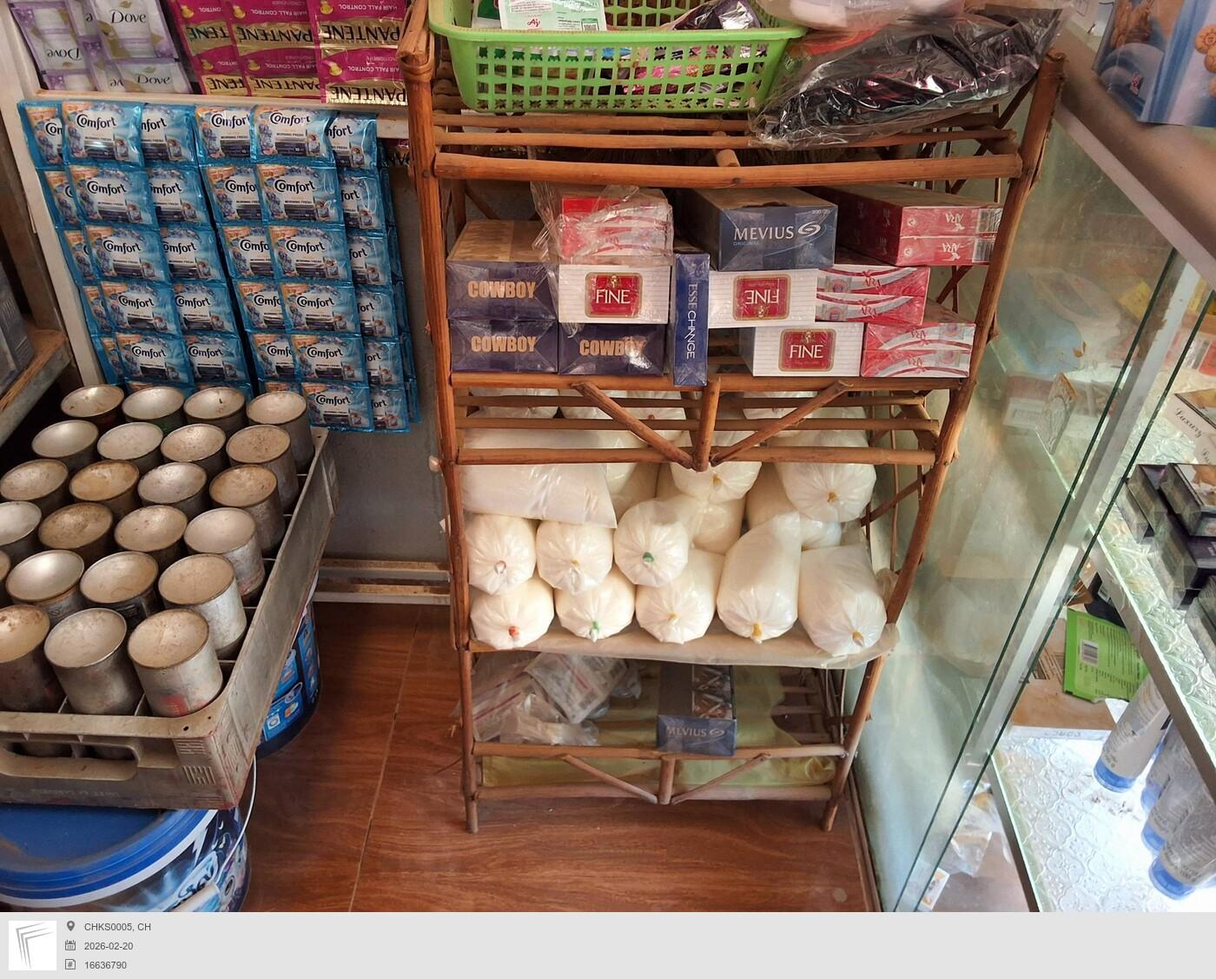cigarette_pack: (830, 179, 1013, 266), (685, 182, 834, 269), (455, 210, 559, 314), (865, 292, 977, 377), (726, 321, 866, 379), (558, 196, 670, 266), (559, 265, 678, 326), (665, 247, 716, 386), (568, 322, 680, 379), (442, 319, 558, 371), (712, 270, 819, 326), (821, 271, 926, 328)
